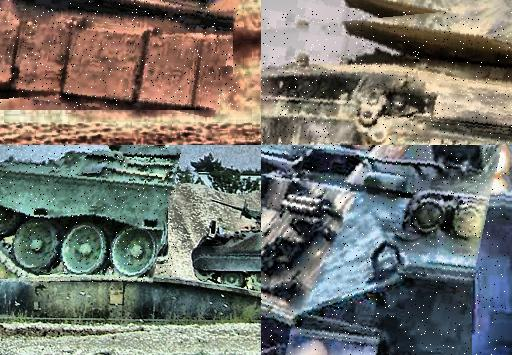tanks: (262, 146, 502, 355), (262, 10, 512, 146), (361, 146, 512, 355), (1, 1, 240, 110), (1, 146, 181, 283), (192, 206, 262, 291)
